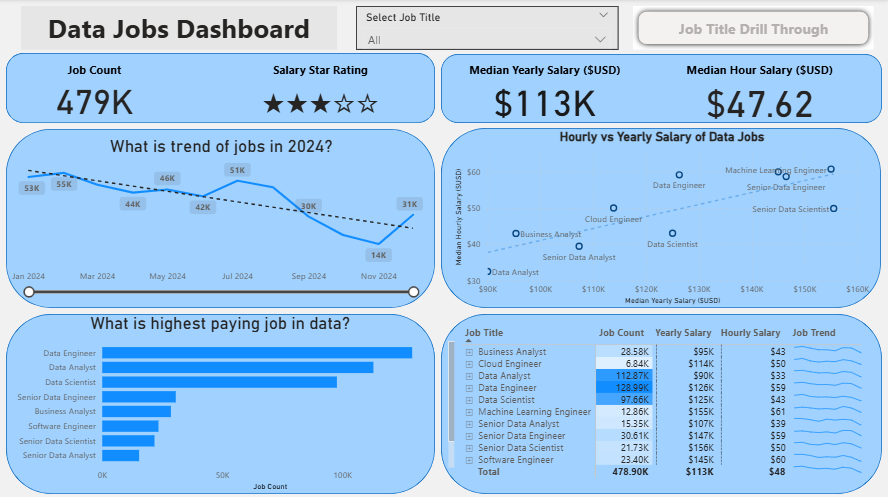

Layout of this report page (visuals, bound fields, positions):
{"tool":"powerbi","page":{"name":"Data Jobs Dashboard","canvas":[1280,720],"ordinal":0},"visuals":[{"type":"group","id":"g1","title":"Background","box":[33,77,1241.6,625],"z":500},{"type":"slicer","fields":{"Values":["job_postings_flat.job_title_short"]},"box":[528.7,9.8,371.6,62.2],"z":1000},{"type":"cardVisual","fields":{"Data":["CountNonNull(job_postings_flat.job_title)"]},"box":[0,72,316.8,103.7],"z":2000},{"type":"cardVisual","fields":{"Data":["job_postings_flat.Salary Star Rating"]},"box":[316.8,72,322.6,103.7],"z":3000},{"type":"cardVisual","fields":{"Data":["Median(job_postings_flat.salary_year_avg)"]},"box":[652.3,72,289.4,103.7],"z":4000},{"type":"cardVisual","fields":{"Data":["Median(job_postings_flat.salary_hour_avg)"]},"box":[941.2,72,320.8,103.1],"z":5000},{"type":"lineChart","title":"What is trend of jobs in  2024?","fields":{"Y":["CountNonNull(job_postings_flat.job_title_short)"],"Category":["job_postings_flat.job_posted_date.Variation.Date Hierarchy.Year","job_postings_flat.job_posted_date.Variation.Date Hierarchy.Quarter","job_postings_flat.job_posted_date.Variation.Date Hierarchy.Month","job_postings_flat.job_posted_date.Variation.Date Hierarchy.Day"]},"box":[35.4,194.2,605.2,232.4],"z":6000},{"type":"barChart","title":"What is highest paying job in data?","fields":{"Category":["job_postings_flat.job_title_short"],"Y":["CountNonNull(job_postings_flat.job_title_short)"]},"box":[0,445.3,639,257.3],"z":7000},{"type":"scatterChart","title":"Hourly vs Yearly Salary  of Data Jobs","fields":{"X":["Median(job_postings_flat.salary_year_avg)"],"Y":["Median(job_postings_flat.salary_hour_avg)"],"Series":["job_postings_flat.job_title_short"]},"box":[653.5,183.6,607.2,254.5],"z":8000},{"type":"pivotTable","fields":{"Rows":["job_postings_flat.job_title_short","job_postings_flat.job_posted_date.Variation.Date Hierarchy.Quarter"],"Values":["CountNonNull(job_postings_flat.job_title_short)","Median(job_postings_flat.salary_year_avg)","Median(job_postings_flat.salary_hour_avg)","SparklineData(CountNonNull(job_postings_flat.job_title_short)_[job_postings_flat.job_posted_date.Variation.Date Hierarch"]},"box":[673.7,459.8,588.4,260.2],"z":9000},{"type":"actionButton","box":[921.6,10.1,341.3,61.9],"z":10000},{"type":"textbox","box":[53.9,9.9,447.9,62.4],"z":11000},{"type":"shape","box":[33,184.7,608,253.7],"z":15125,"group":"g1"},{"type":"shape","box":[649.6,183.3,623.6,255.1],"z":15250,"group":"g1"},{"type":"shape","box":[33,446.8,608,255.1],"z":15500,"group":"g1"},{"type":"shape","box":[649.6,78.4,625,97.8],"z":16000,"group":"g1"},{"type":"shape","box":[649.6,446.8,625,255.1],"z":16250,"group":"g1"},{"type":"shape","box":[33,77,608,99.2],"z":16500,"group":"g1"}]}

Visuals, with their boxes in screenshot pixels (x1, y1, x2, y2), scaled from the page's 1280x720 canvas onto the 888x497 screenshot:
"Background" group: <region>23, 53, 884, 485</region>
slicer - job_postings_flat.job_title_short: <region>367, 7, 625, 50</region>
cardVisual - CountNonNull(job_postings_flat.job_title): <region>0, 50, 220, 121</region>
cardVisual - job_postings_flat.Salary Star Rating: <region>220, 50, 444, 121</region>
cardVisual - Median(job_postings_flat.salary_year_avg): <region>453, 50, 653, 121</region>
cardVisual - Median(job_postings_flat.salary_hour_avg): <region>653, 50, 876, 121</region>
"What is trend of jobs in  2024?" lineChart: <region>25, 134, 444, 294</region>
"What is highest paying job in data?" barChart: <region>0, 307, 443, 485</region>
"Hourly vs Yearly Salary  of Data Jobs" scatterChart: <region>453, 127, 875, 302</region>
pivotTable - job_postings_flat.job_title_short x job_postings_flat.job_posted_date.Variation.Date Hierarchy.Quarter: <region>467, 317, 876, 496</region>
actionButton: <region>639, 7, 876, 50</region>
textbox: <region>37, 7, 348, 50</region>
shape: <region>23, 127, 445, 303</region>
shape: <region>451, 127, 883, 303</region>
shape: <region>23, 308, 445, 485</region>
shape: <region>451, 54, 884, 122</region>
shape: <region>451, 308, 884, 485</region>
shape: <region>23, 53, 445, 122</region>
